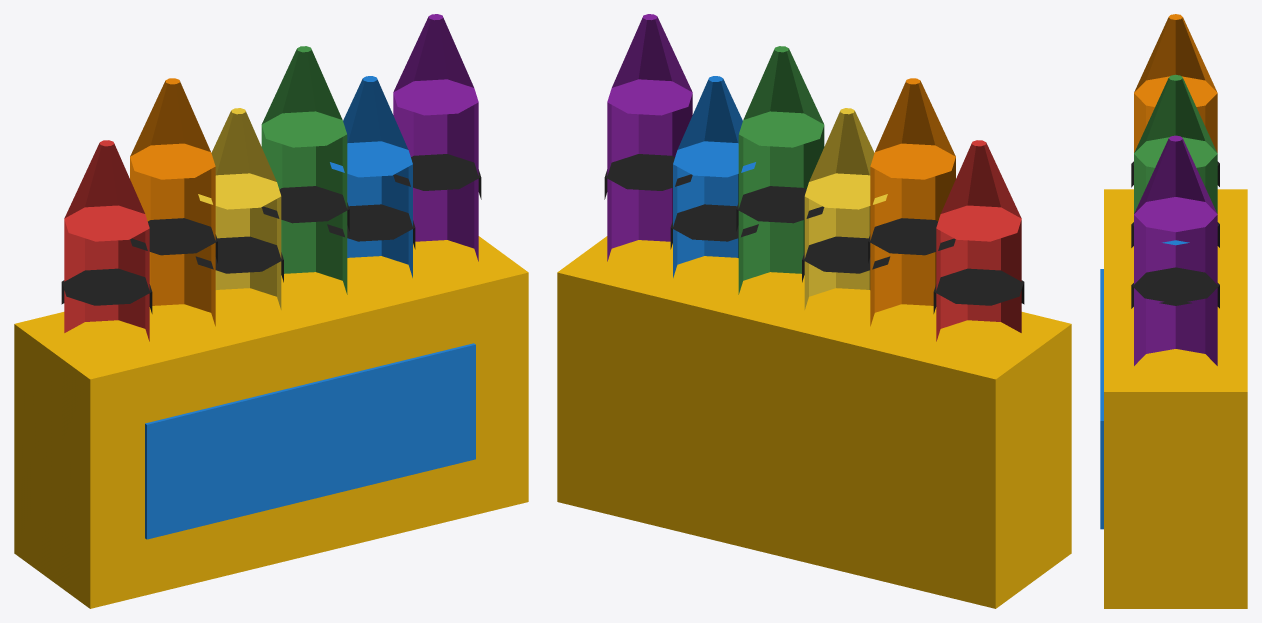
Rendered from krita.glb.
The picture shows the model from 3 angles, left to right: view 1: azimuth 30°, elevation 25°; view 2: azimuth 150°, elevation 25°; view 3: azimuth 270°, elevation 25°; orthographic projection. The views are drawn at different scales.
Parts seen in each view (by area): view 1: krita; view 2: krita; view 3: krita.
Part boxes in pixels (left/top/right/bottom): krita: left=14, top=14, right=528, bottom=608; krita: left=557, top=14, right=1071, bottom=608; krita: left=1100, top=14, right=1247, bottom=608.
Size of the model in its own units: 0.4 by 0.41 by 0.123.
